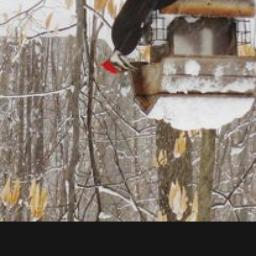Woodpecker: (98, 0, 197, 75)
